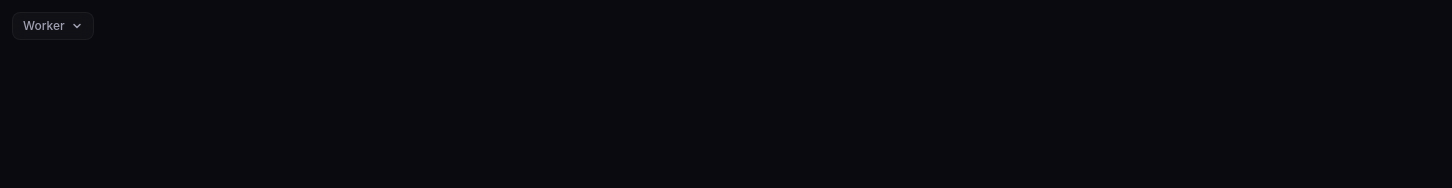
it: PrimaryWorkerSelector (live catalog model source) › does NOT show a provider present in the catalog but not configured
The width and height of the screenshot is (1452, 188).
Click the button titled "Set Strada's primary execution worker" at (53, 26), box left=12, top=12, right=94, bottom=40
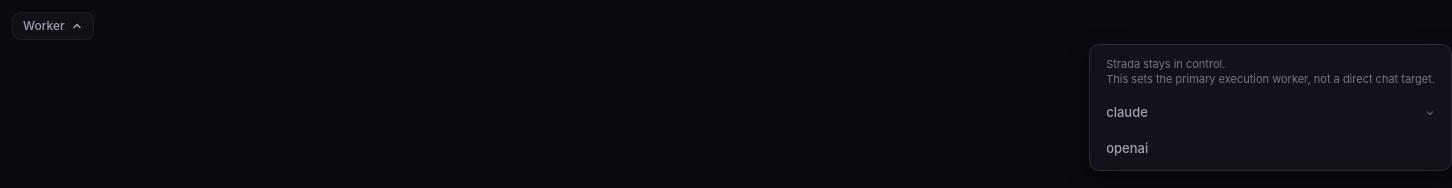
Expected: the text "openai" is shown, left=1106, top=139, right=1148, bottom=158
